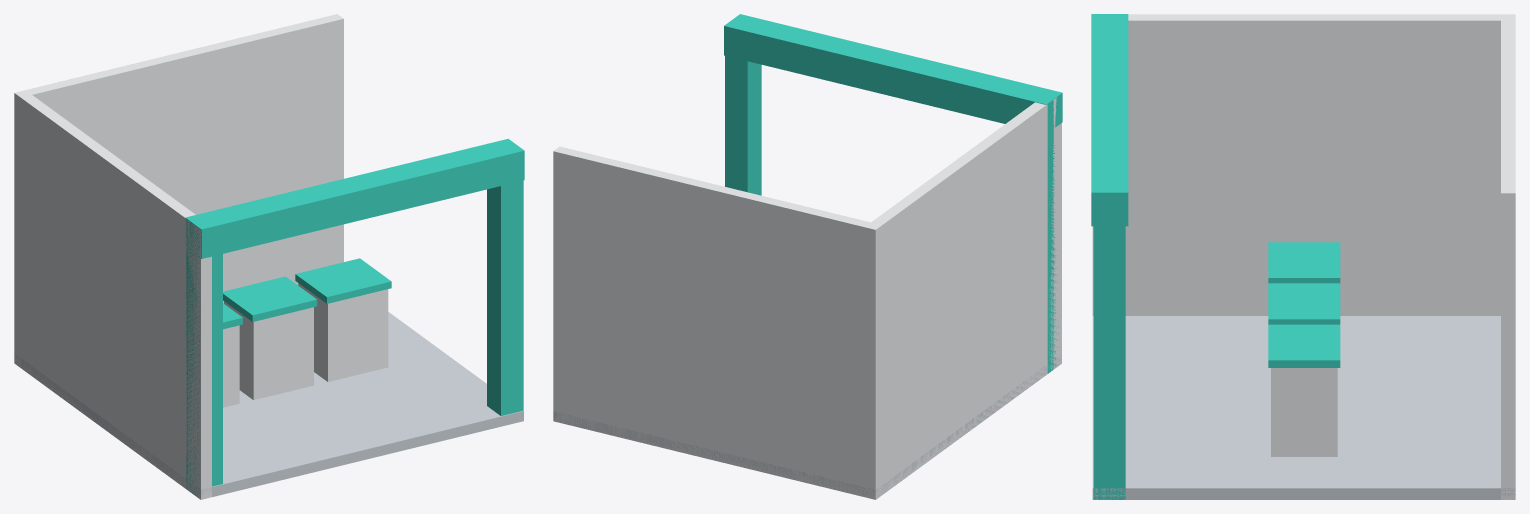
The picture shows the model from 3 angles, left to right: view 1: azimuth 30°, elevation 25°; view 2: azimuth 150°, elevation 25°; view 3: azimuth 270°, elevation 25°; orthographic projection. The views are drawn at different scales.
Parts seen in each view (by area): view 1: Exhibition Booth Concept; view 2: Exhibition Booth Concept; view 3: Exhibition Booth Concept.
Part boxes in pixels (x1,y1,x2,y2): Exhibition Booth Concept: (14,14,524,499); Exhibition Booth Concept: (553,14,1062,499); Exhibition Booth Concept: (1091,14,1515,499).
Size of the model in its own units: 4 by 3.2 by 4.02.
